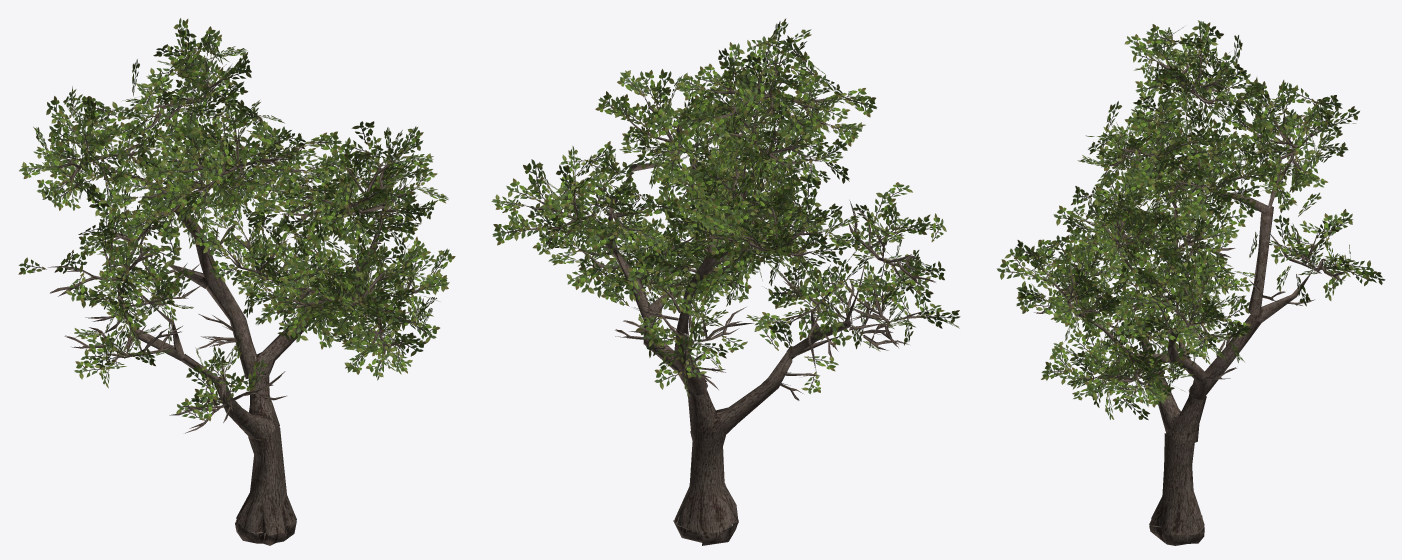
File: arvore.gltf
The picture shows the model from 3 angles, left to right: view 1: azimuth 30°, elevation 25°; view 2: azimuth 150°, elevation 25°; view 3: azimuth 270°, elevation 25°; orthographic projection. The views are drawn at different scales.
Visible parts, largest first — view 1: arvore; view 2: arvore; view 3: arvore.
Part boxes in pixels (<box>): arvore: <box>18,18,455,545</box>; arvore: <box>491,18,960,545</box>; arvore: <box>996,20,1385,545</box>.
Size of the model in its own units: 8.79 by 9.97 by 7.23.
Materials: 2 (2 with a texture image).
